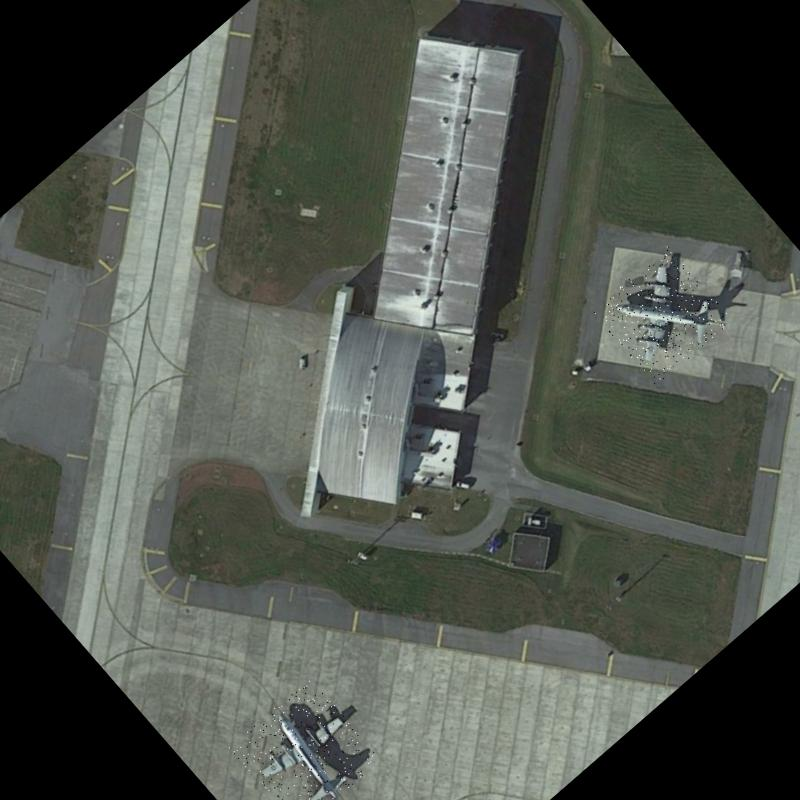A9: (592, 245, 733, 386), (229, 676, 382, 800)
